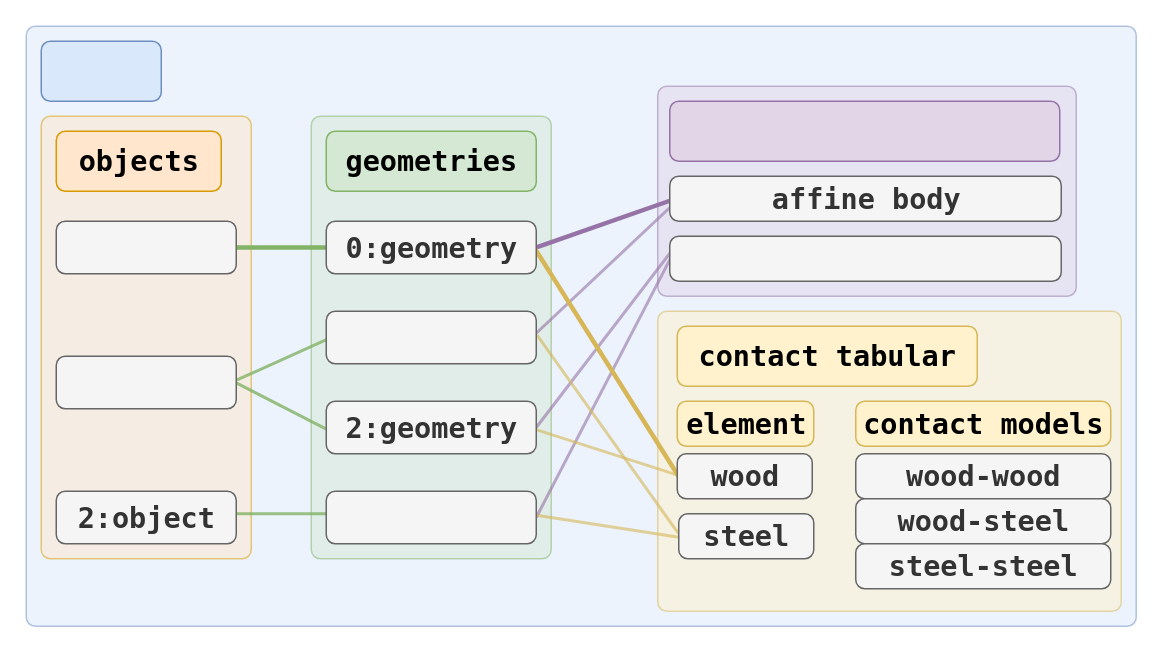
This 1163x653 diagram has some shape labels left out. Here are the shapes that lost their labels. From the top down, the centre of each, then its label:
At pixel 100 70: "scene".
At pixel 864 130: "constitution tabular".
At pixel 145 247: "0:object".
At pixel 864 258: "neo-hookean".
At pixel 430 337: "1:geometry".
At pixel 145 382: "1:object".
At pixel 430 517: "3:geometry".
